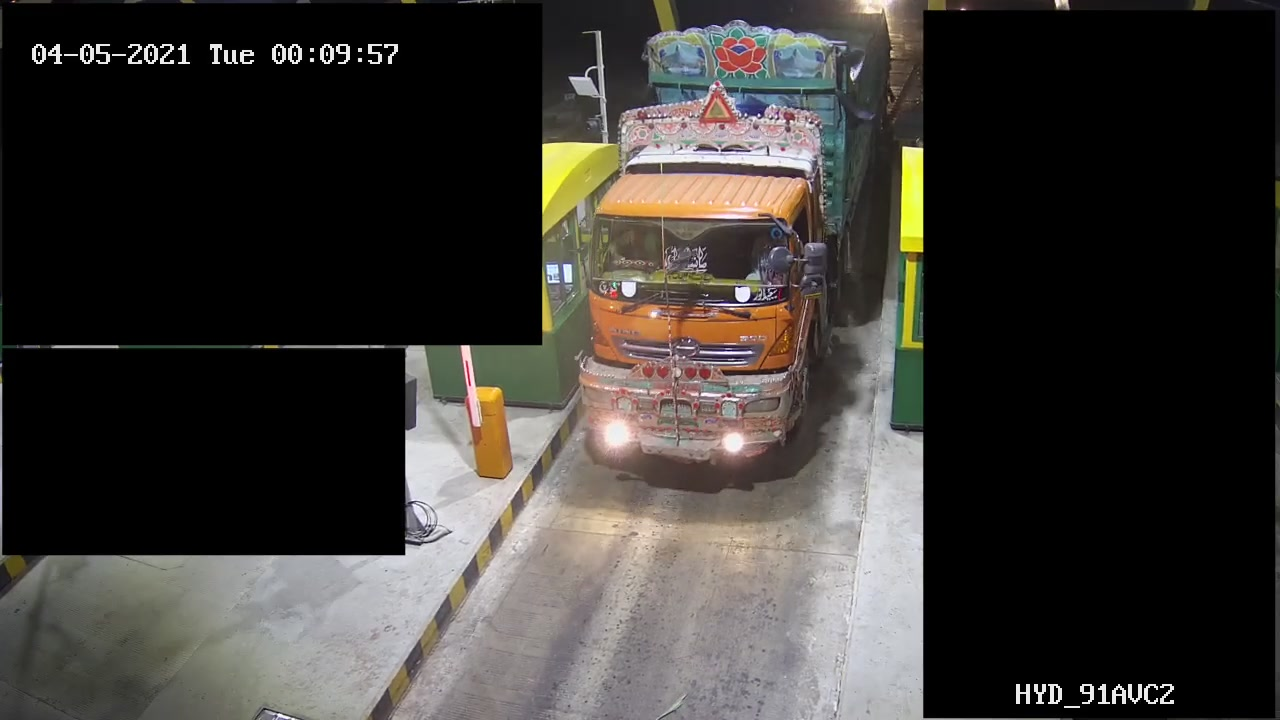F6: (555, 9, 893, 482)
